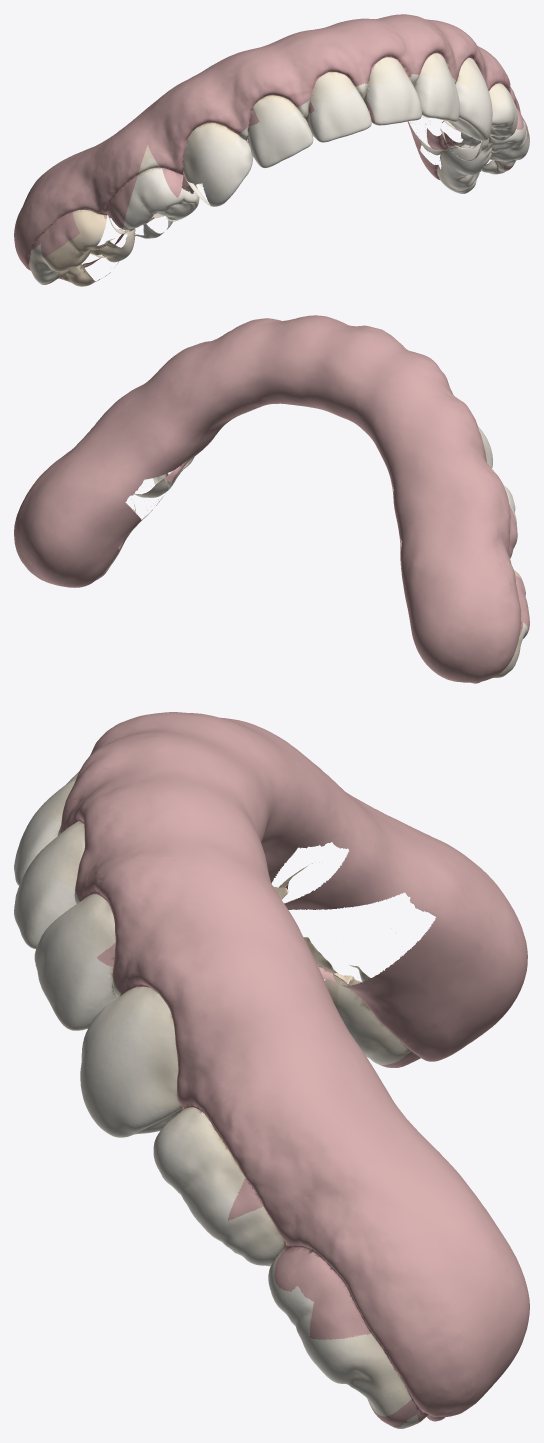
File: arcada_temporal_superior_lite.glb
3 renders of one model, top to bottom at view 1: azimuth 30°, elevation 25°; view 2: azimuth 150°, elevation 25°; view 3: azimuth 270°, elevation 25°, orthographic. The views are drawn at different scales.
Visible parts, largest first — view 1: mesh_node; view 2: mesh_node; view 3: mesh_node.
Part boxes in pixels (box(x1,y1,x2,y2)): mesh_node: box(14, 14, 529, 286); mesh_node: box(14, 315, 529, 683); mesh_node: box(14, 712, 529, 1428).
Size of the model in its own units: 1.9 by 0.9393 by 0.9245.
